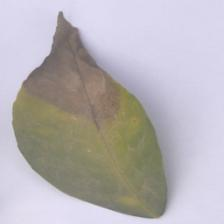black spot: (4, 23, 133, 116)
